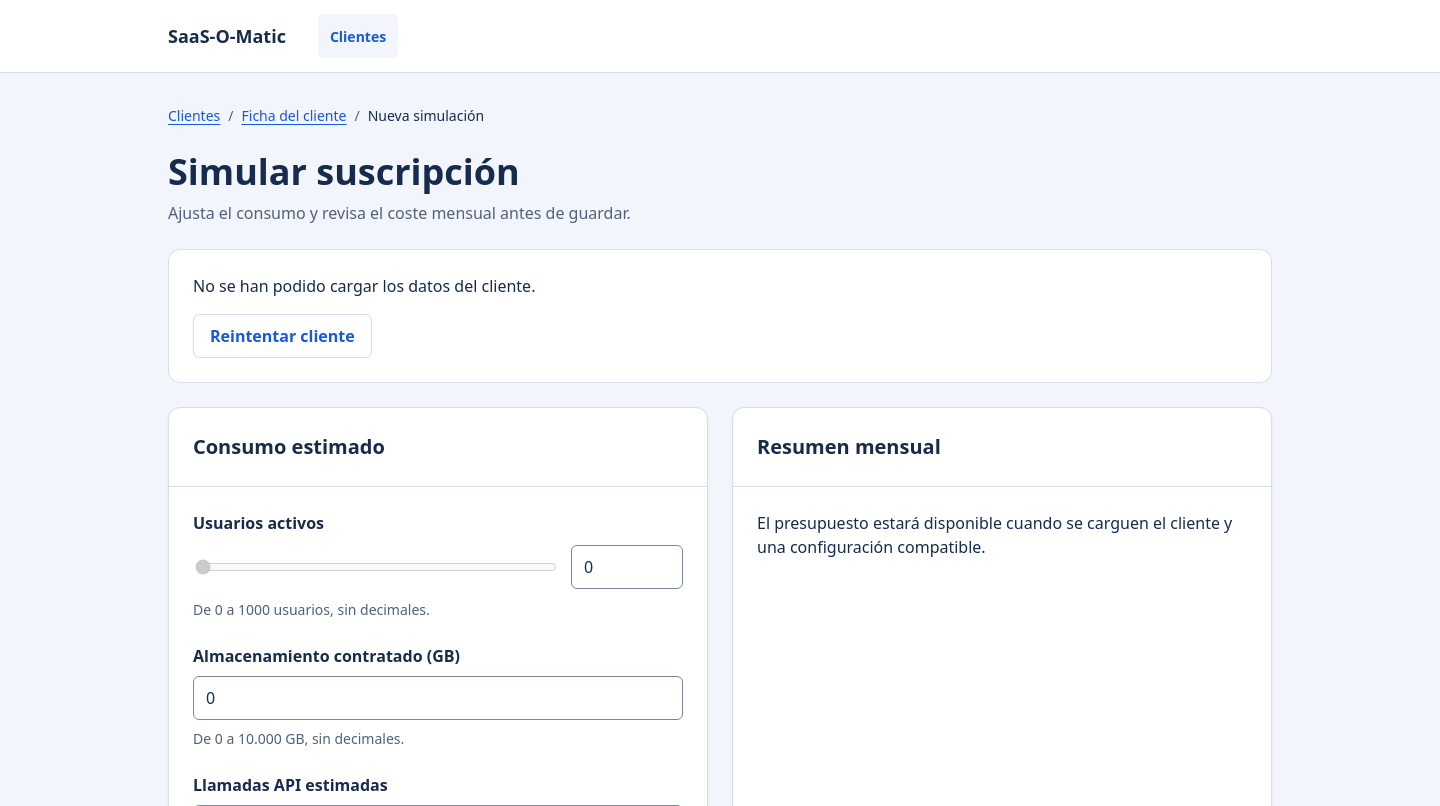
Test case: recovers malformed/unavailable configuration and a temporary client error independently
Later steps or results of the test are not shown.
Click the button "Reintentar cliente" at (282, 336), box 193,314 -> 372,358
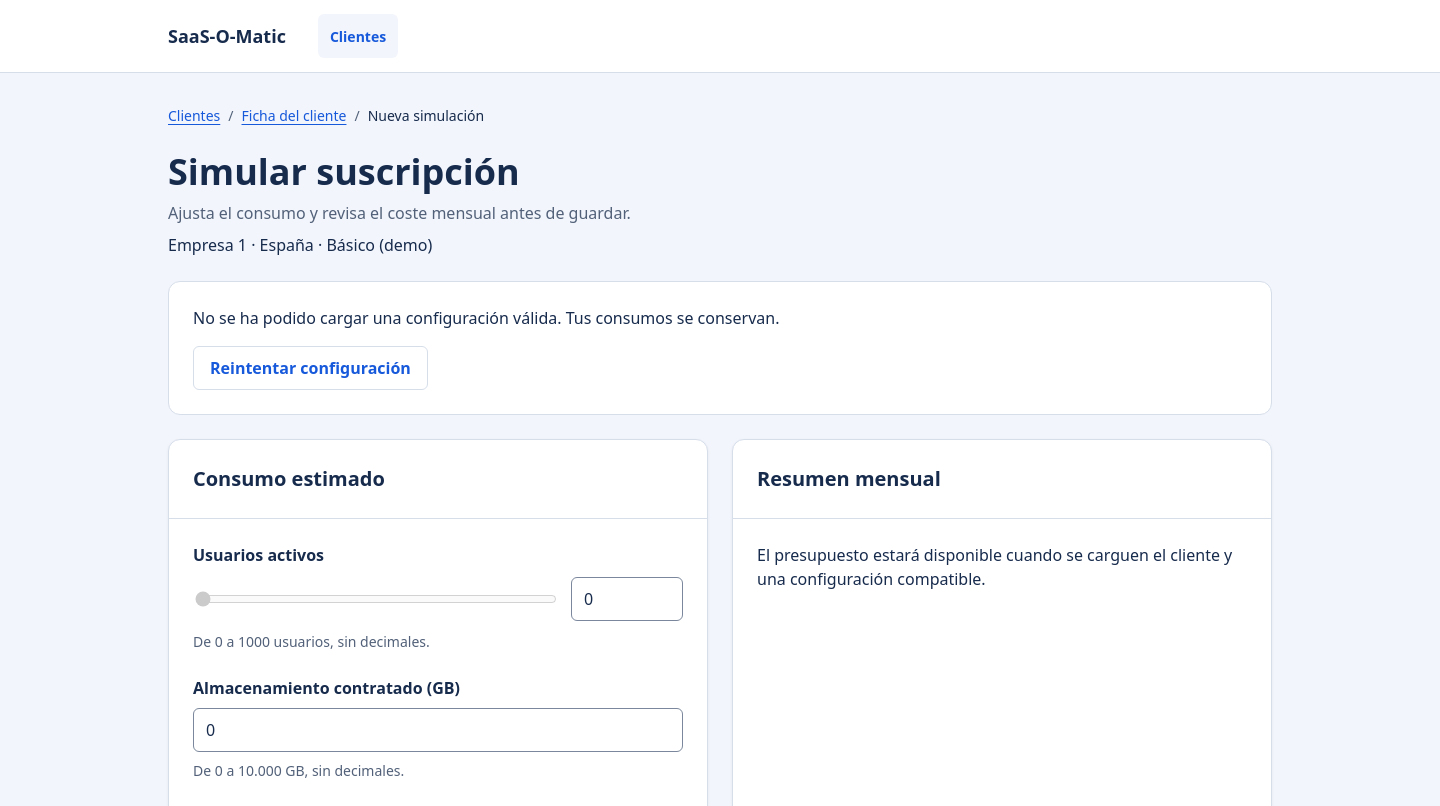
Check: the field labelled "Usuarios activos" is disabled, box 571,577 -> 683,621
Check: the button "Reintentar configuración" is shown, box 193,346 -> 428,390
